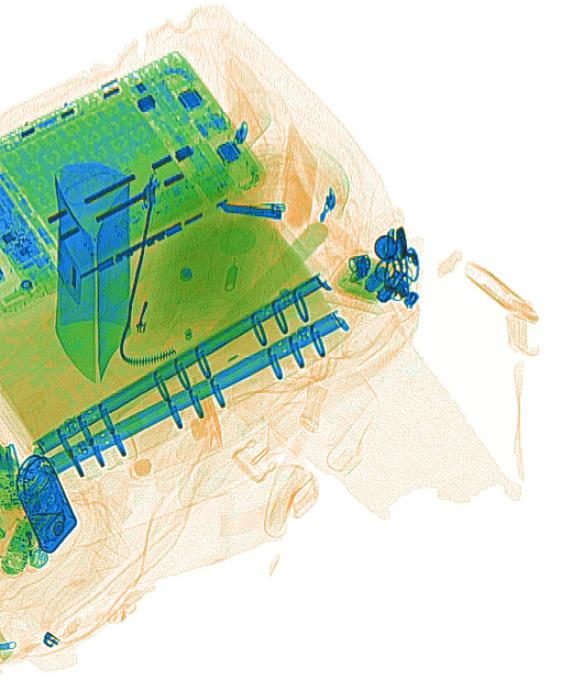lighter: (17, 490, 50, 570)
